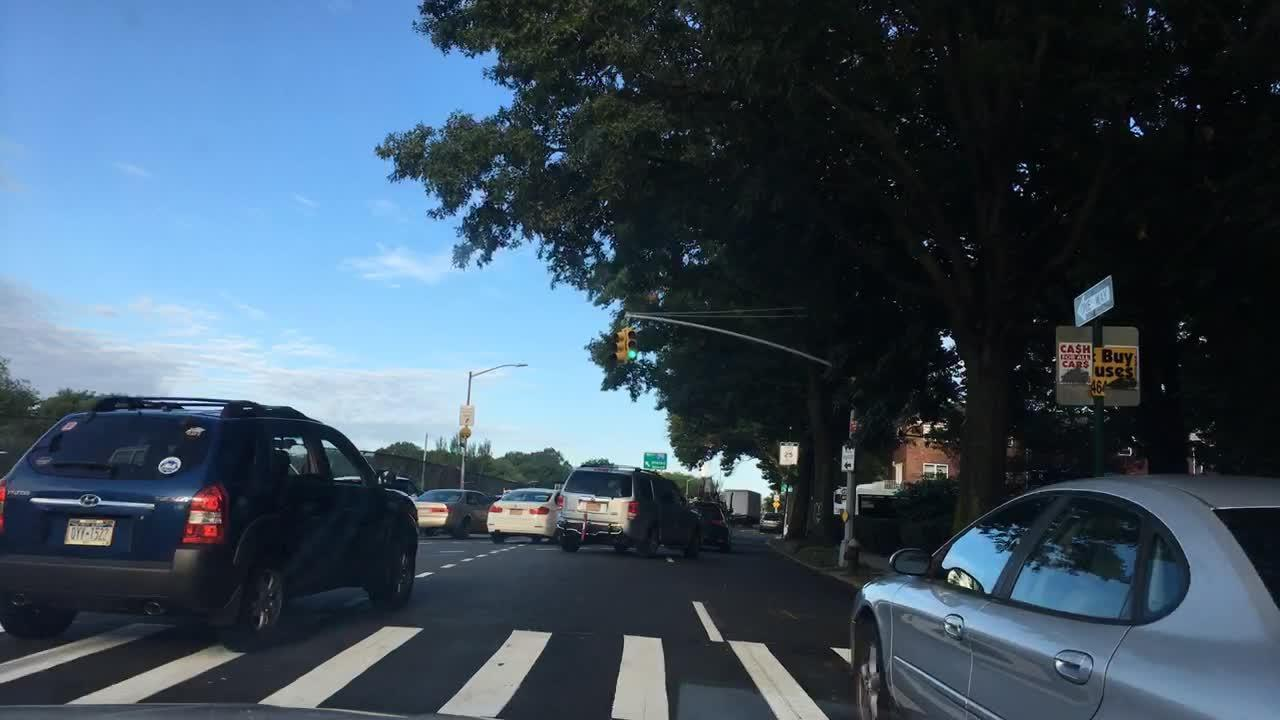Hyundai: (76, 486, 109, 514)
